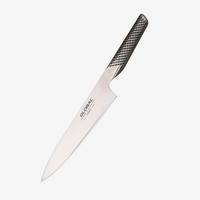knife: (39, 9, 149, 187)
